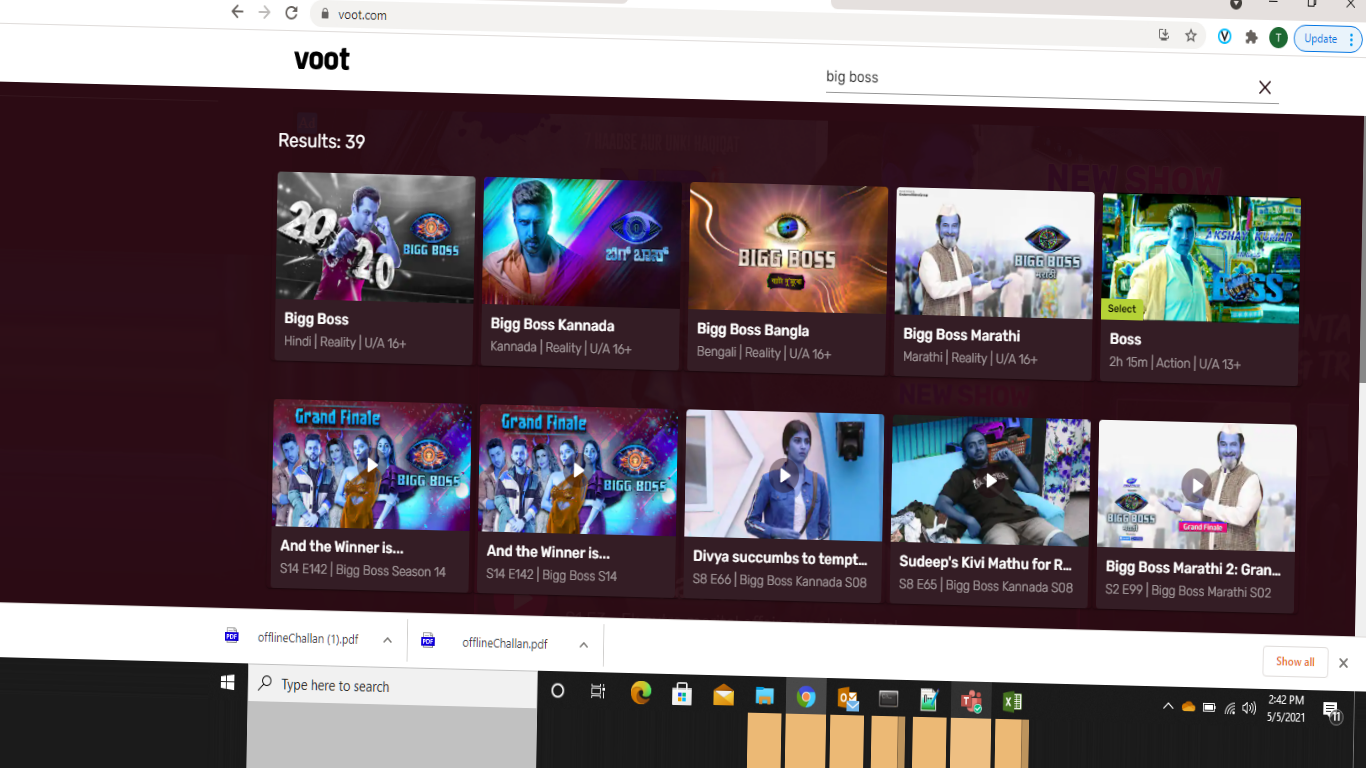resultsfound: (264, 123, 378, 171)
searchtextbox: (827, 53, 1312, 109)
